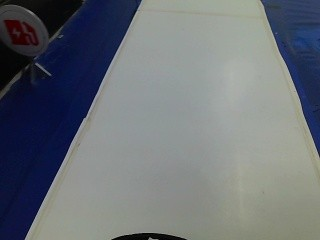battery: (1, 6, 48, 58)
